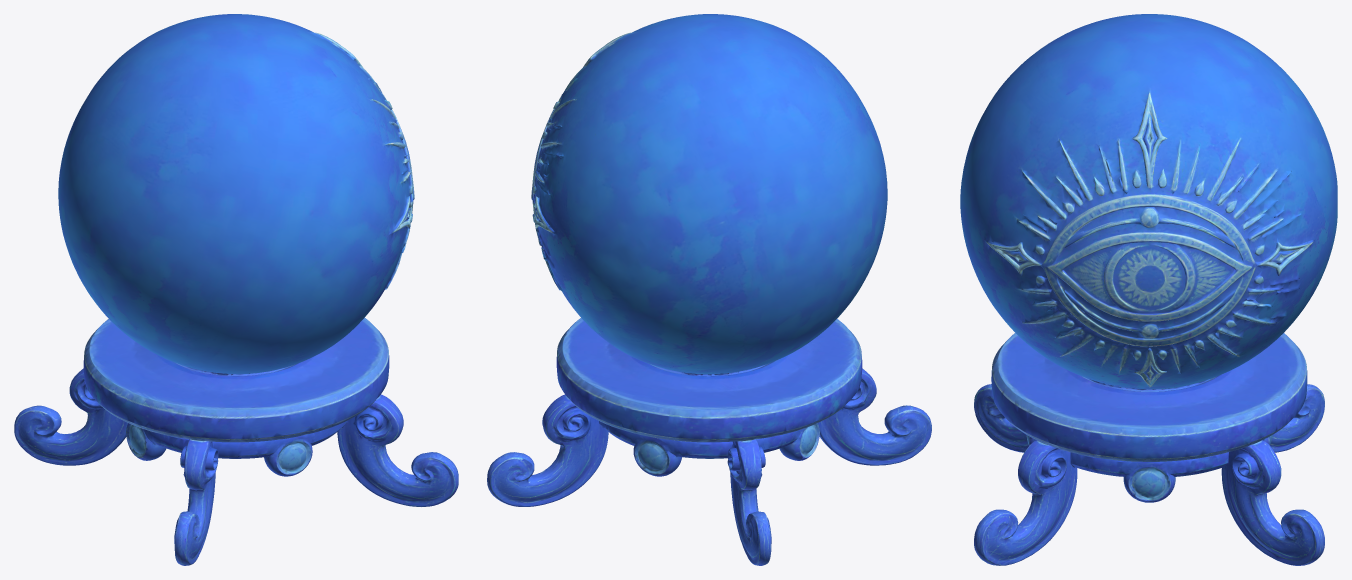
Rendered from fortuneteller.glb.
3 views of the same model, side by side, from view 1: azimuth 30°, elevation 25°; view 2: azimuth 150°, elevation 25°; view 3: azimuth 270°, elevation 25° (orthographic). The views are drawn at different scales.
Visible parts, largest first — view 1: tripo_node_816c3029-cbb8-4752-90f0-03fff454230a; view 2: tripo_node_816c3029-cbb8-4752-90f0-03fff454230a; view 3: tripo_node_816c3029-cbb8-4752-90f0-03fff454230a.
Part boxes in pixels (x1,y1,x2,y2): tripo_node_816c3029-cbb8-4752-90f0-03fff454230a: (14,14,458,565); tripo_node_816c3029-cbb8-4752-90f0-03fff454230a: (487,14,931,565); tripo_node_816c3029-cbb8-4752-90f0-03fff454230a: (960,14,1337,565).
Size of the model in its own units: 0.6993 by 0.9784 by 0.7082.
Materials: 1 (1 with a texture image).
